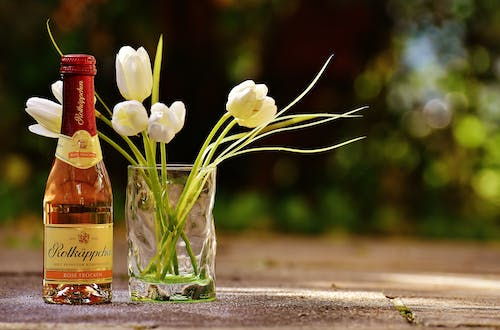alcohol: (41, 53, 114, 307)
